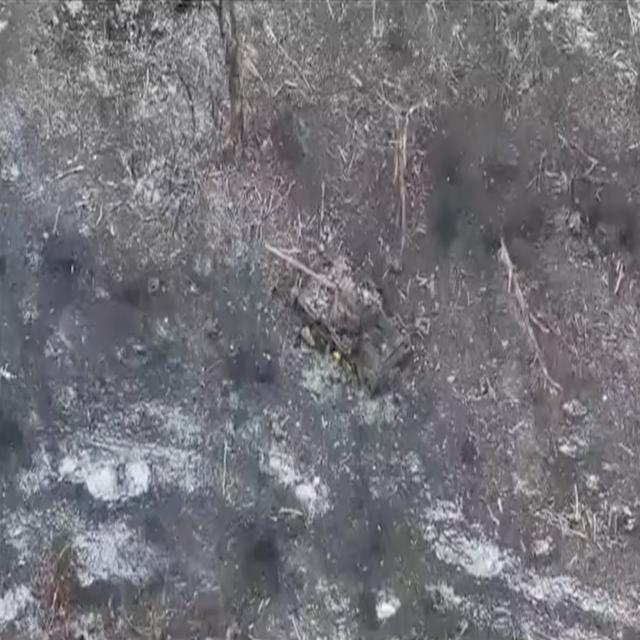vehicle: (263, 236, 414, 395)
